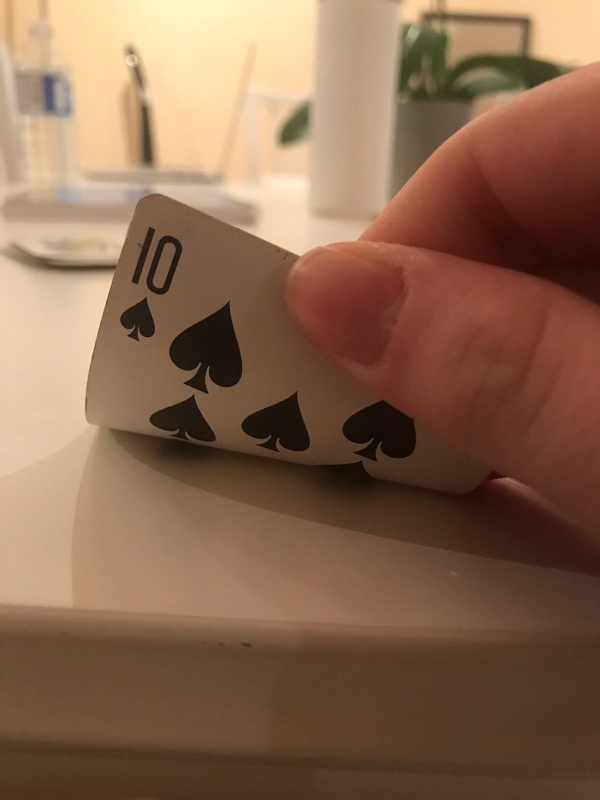S10: (120, 225, 182, 345)
